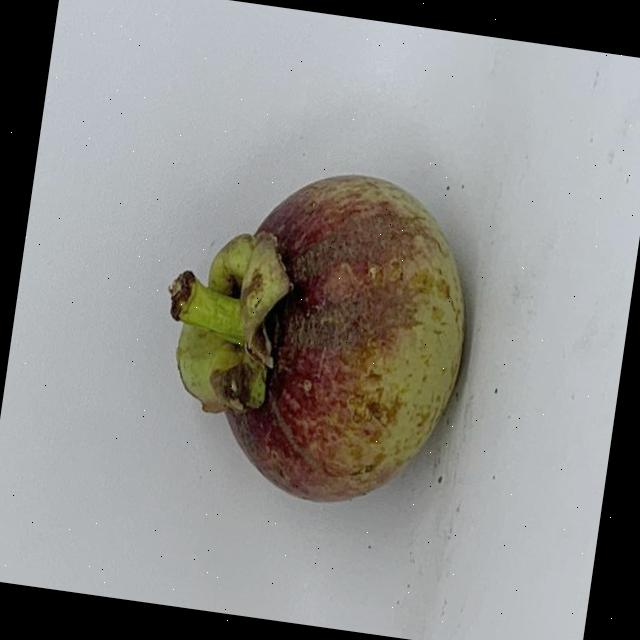mangosteen: (132, 143, 498, 530)
